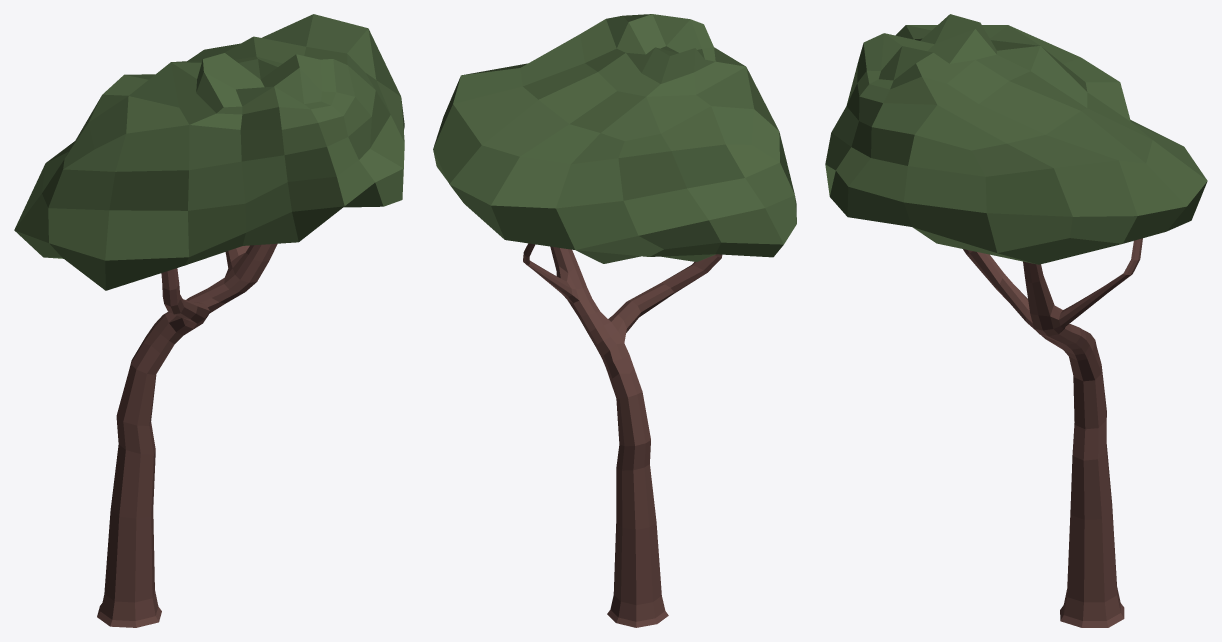
File: orange_harvested.gltf
3 renders of one model, left to right at view 1: azimuth 30°, elevation 25°; view 2: azimuth 150°, elevation 25°; view 3: azimuth 270°, elevation 25°, orthographic. The views are drawn at different scales.
Visible parts, largest first — view 1: orange_harvested; view 2: orange_harvested; view 3: orange_harvested.
Part boxes in pixels (<box>): orange_harvested: <box>14,14,404,627</box>; orange_harvested: <box>433,14,796,627</box>; orange_harvested: <box>825,14,1207,627</box>.
Size of the model in its own units: 1.8 by 2.76 by 1.58.
1 material, 1 textured.
